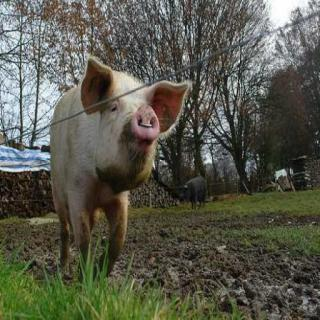Pig: (33, 37, 184, 250)
